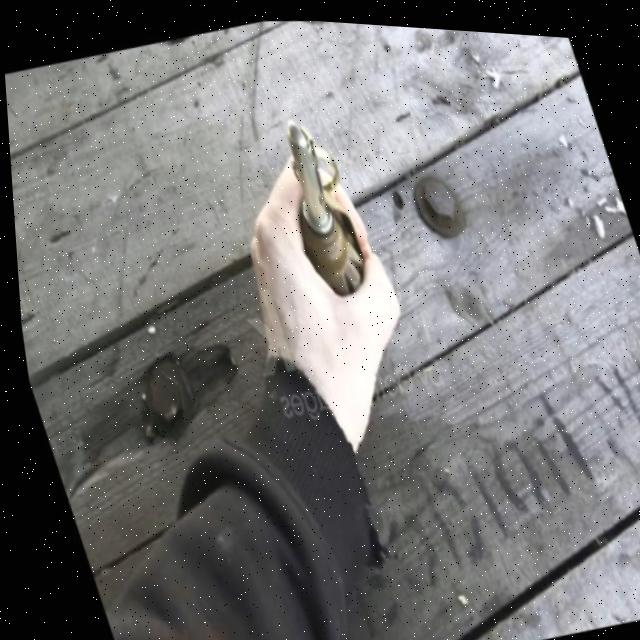grenade: (262, 107, 369, 302)
